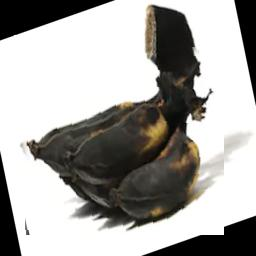Banana Rotten: (14, 36, 224, 236)
